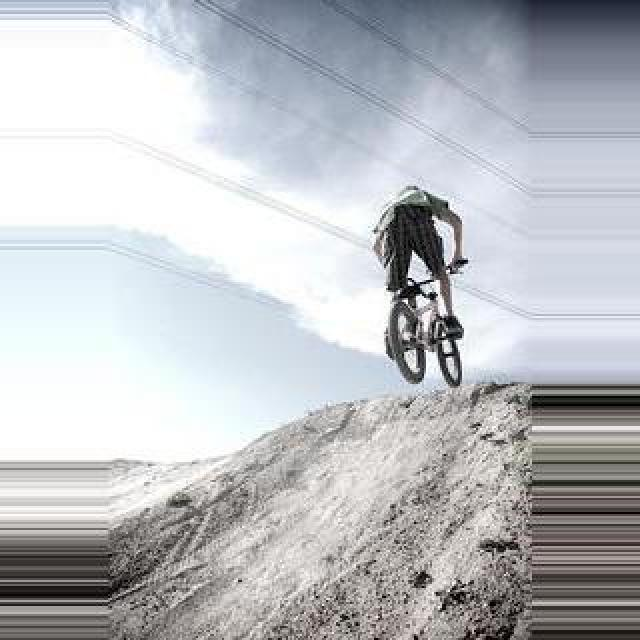MC-Bike: (370, 188, 466, 356)
Person: (384, 280, 464, 388)
